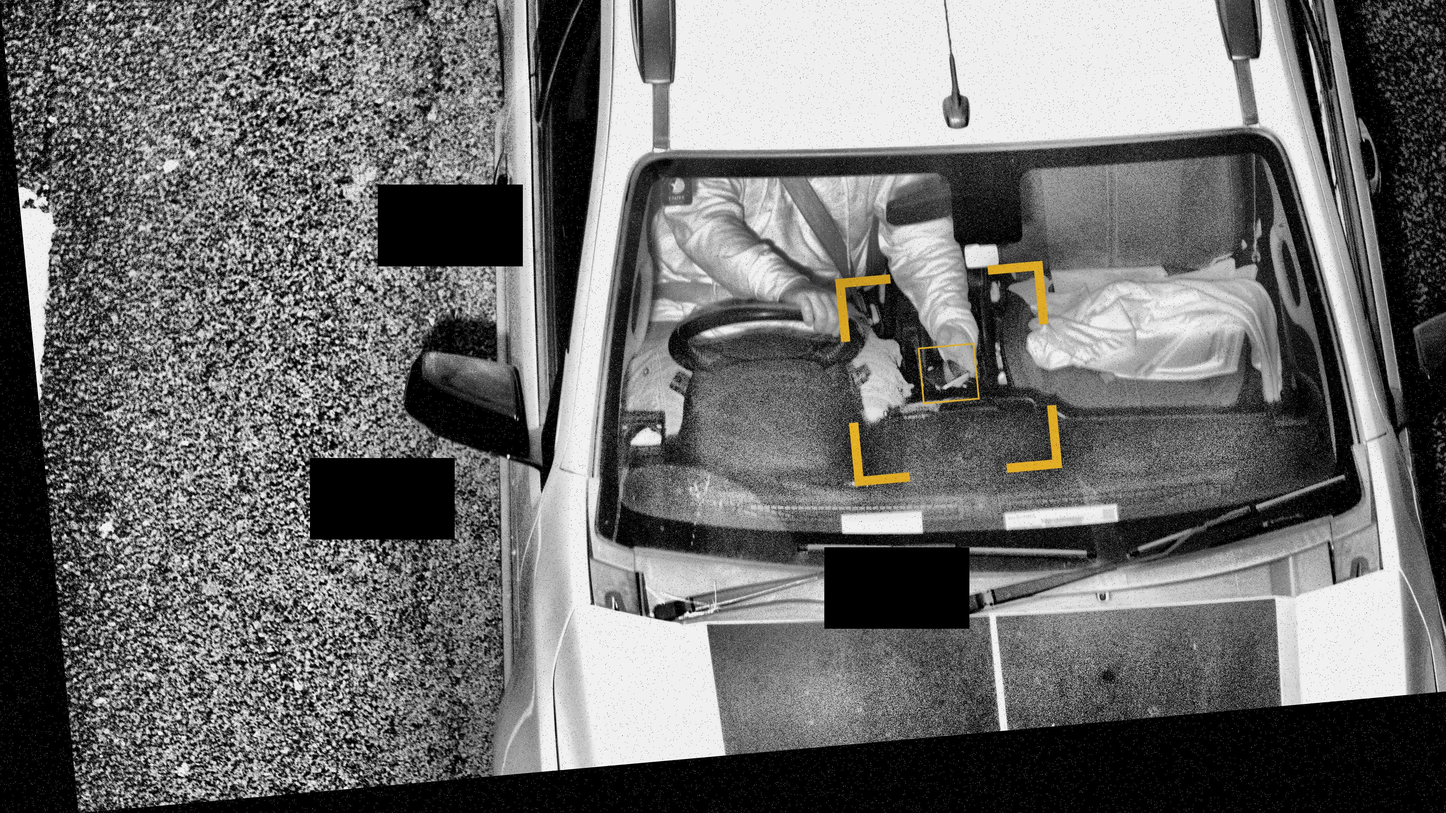seatbelt: (757, 185, 886, 346)
